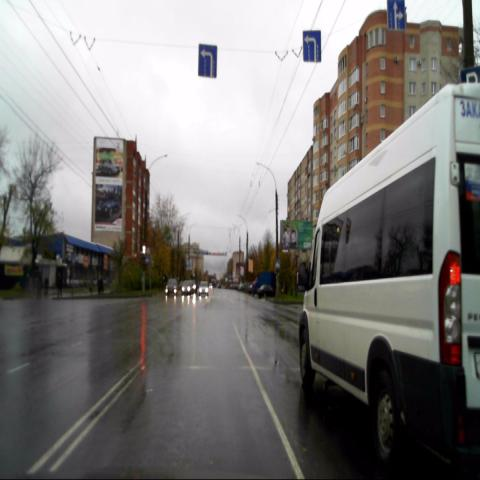5_15_2: (388, 0, 406, 32)
